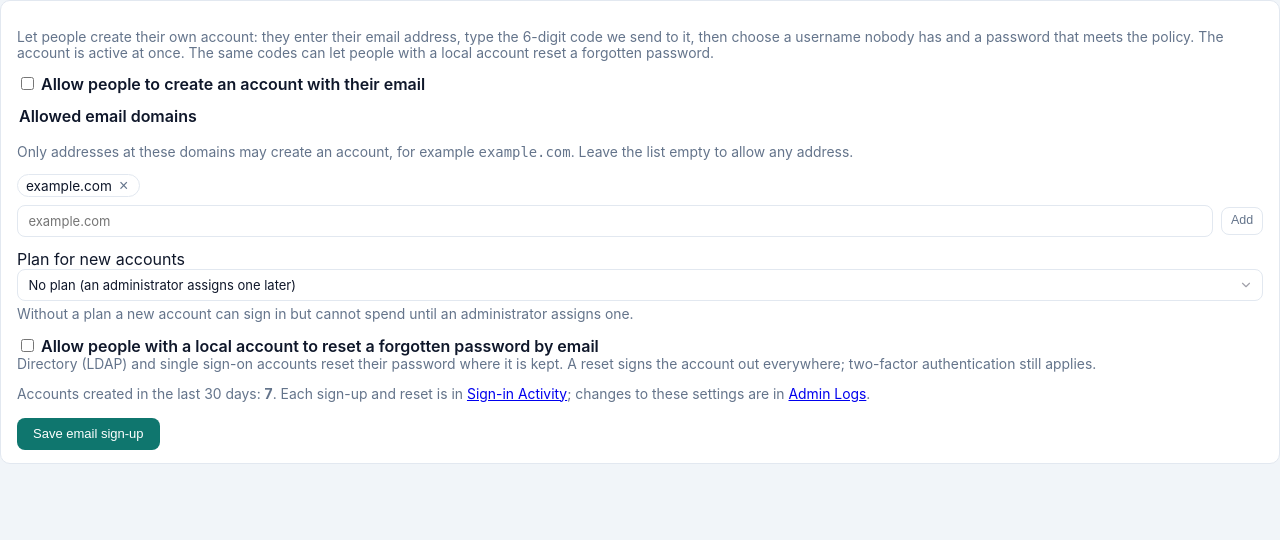
Test: Email sign-up settings › shows the server's refusal
Click the checkbox labelled "Allow people to create an account with their email" at (28, 84), box [21,77,34,90]
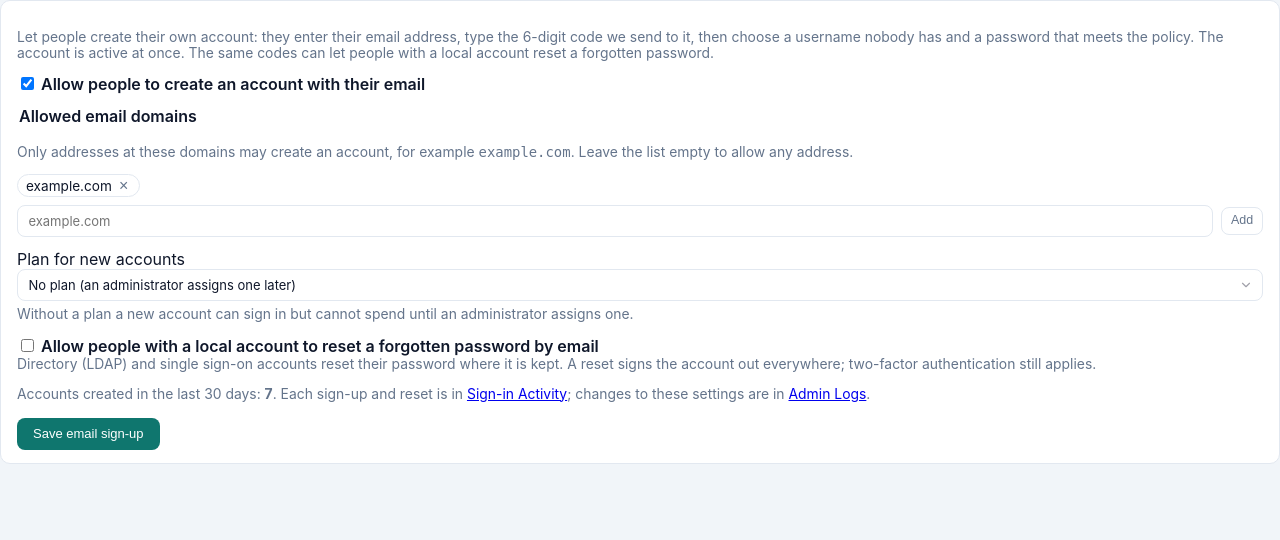
Click the button "Save email sign-up" at (88, 434), box [17,418,160,450]
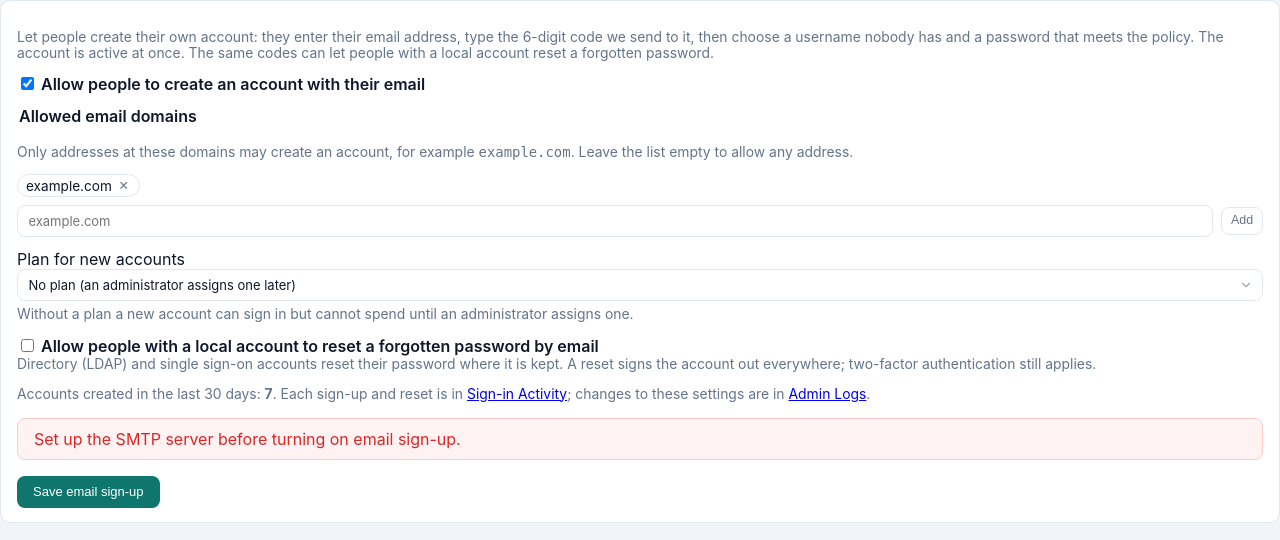
Now the text "Set up the SMTP server before turning on email sign-up." is shown, box [17,418,1263,460]
